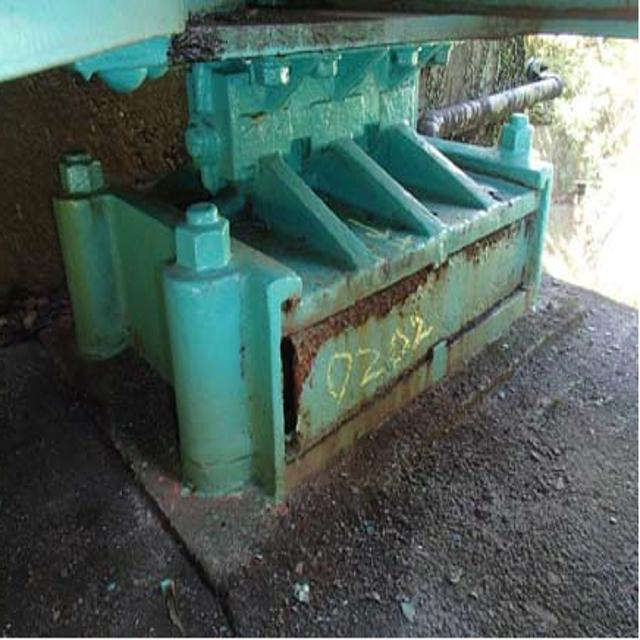corrosion: (270, 246, 496, 428)
